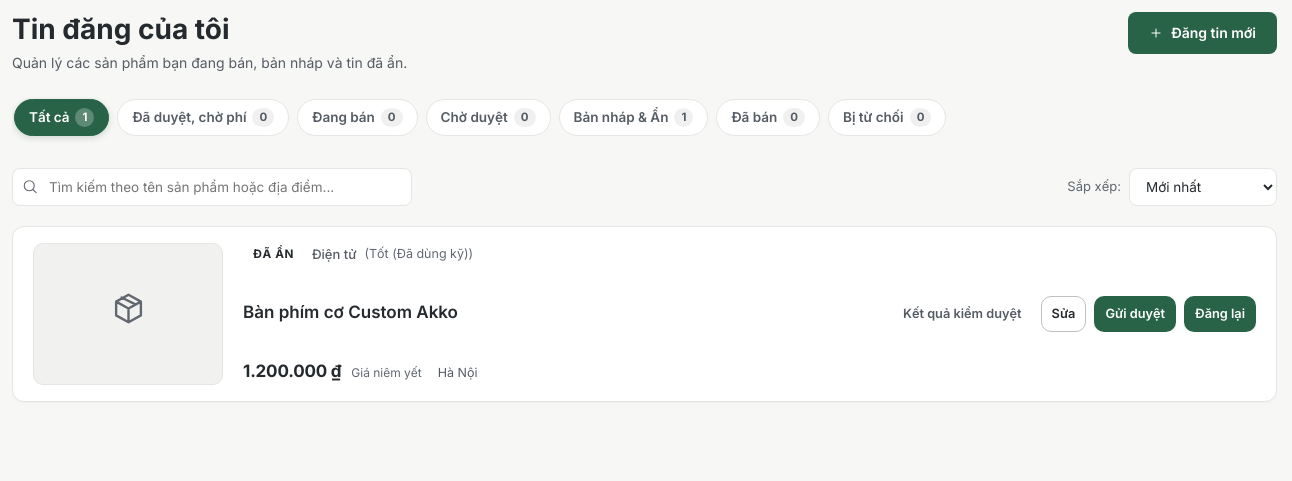
it: SellerListingsPage Component › allows republishing a HIDDEN listing directly to ACTIVE
Check: the heading "Bàn phím cơ Custom Akko" is shown, box left=243, top=302, right=458, bottom=322
Click the button "Đăng lại".
click(1220, 314)  # box left=1184, top=296, right=1256, bottom=332
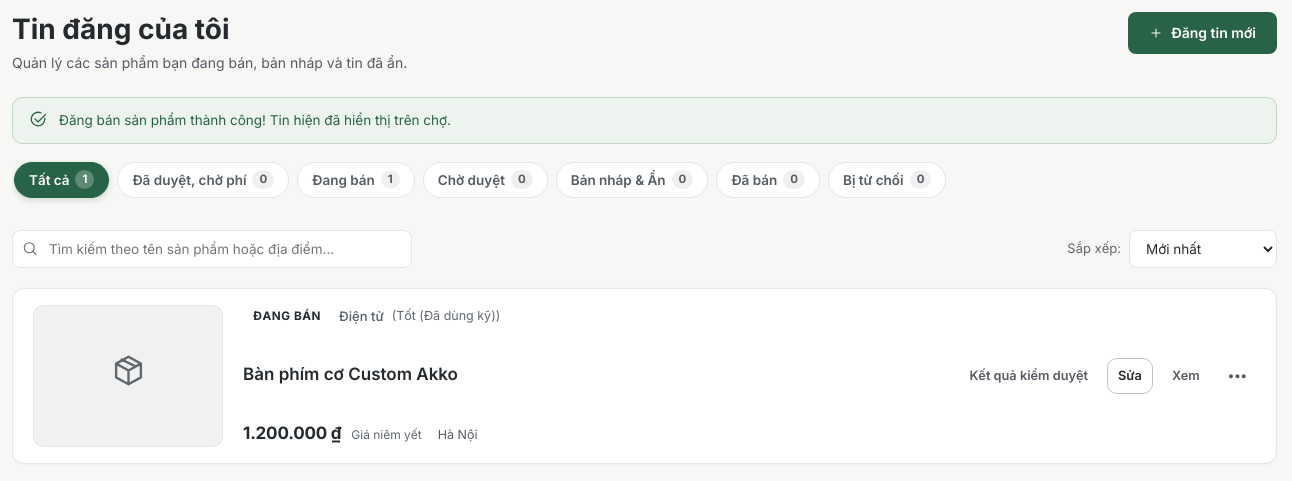
Check: the text "Đăng bán sản phẩm thành công! Tin hiện đã hiển thị trên chợ." is shown, box left=59, top=112, right=451, bottom=128
